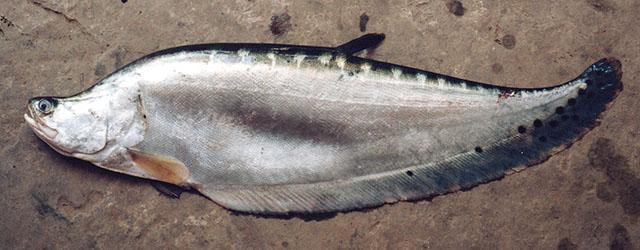Mulut: (21, 90, 74, 146)
Sirip Dada: (117, 144, 197, 192)
Sirip Punggung: (323, 26, 392, 66)
